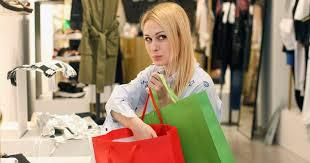shoplifting: (94, 76, 219, 163)
